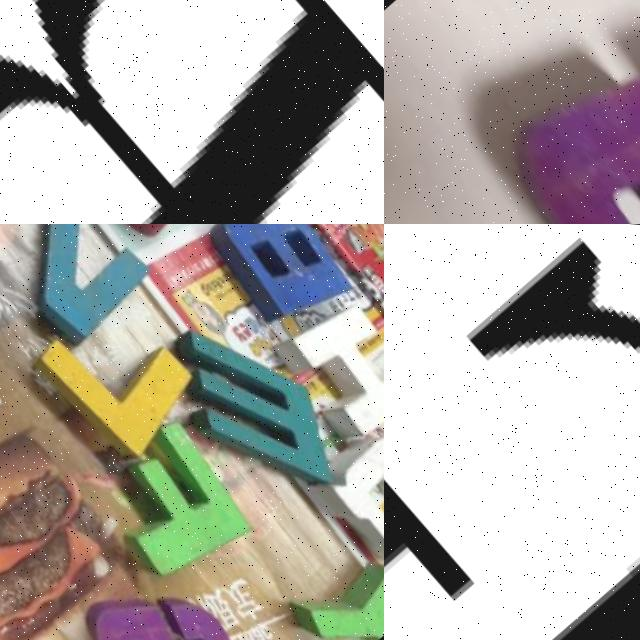B: (0, 0, 384, 224), (177, 224, 368, 339)
F: (90, 405, 270, 588)
G: (384, 224, 640, 640), (458, 0, 640, 224), (64, 536, 297, 640)
H: (270, 279, 384, 447)
L: (28, 277, 216, 469)
M: (140, 274, 365, 503)
Q: (304, 408, 384, 581)
V: (0, 224, 179, 364)
Y: (287, 523, 384, 640)
